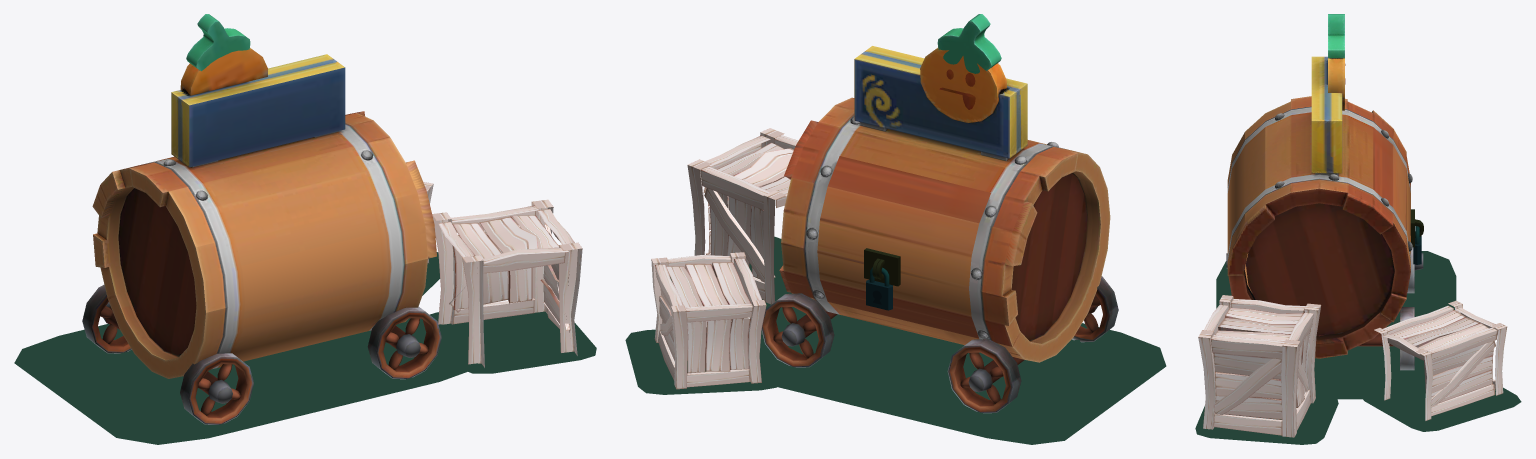
Rendered from TraderBuildingLocked (Baked).fbx.
3 renders of one model, left to right at view 1: azimuth 30°, elevation 25°; view 2: azimuth 150°, elevation 25°; view 3: azimuth 270°, elevation 25°, orthographic. The views are drawn at different scales.
Parts seen in each view (by area): view 1: TraderBuildingBody1, ShadowSquareDark2, ConstructionCrate, TraderBuildingBody2, ShadowSquareDark; view 2: TraderBuildingBody1, TraderBuildingBody2, ShadowSquareDark2, CrateBig1, ConstructionCrate, ShadowSquareDark (×2); view 3: TraderBuildingBody1, ConstructionCrate, CrateBig1, ShadowSquareDark2, ShadowSquareDark (×2), TraderBuildingBody2.
Part boxes in pixels (left/top/right/bottom): TraderBuildingBody1: left=92, top=14, right=436, bottom=378; ShadowSquareDark2: left=14, top=318, right=478, bottom=444; ConstructionCrate: left=432, top=199, right=582, bottom=367; TraderBuildingBody2: left=82, top=285, right=441, bottom=424; ShadowSquareDark: left=430, top=311, right=596, bottom=373; TraderBuildingBody1: left=779, top=14, right=1110, bottom=362; TraderBuildingBody2: left=761, top=156, right=1118, bottom=413; ShadowSquareDark2: left=729, top=292, right=1166, bottom=444; CrateBig1: left=651, top=252, right=766, bottom=389; ConstructionCrate: left=687, top=128, right=798, bottom=304; ShadowSquareDark (×2): left=625, top=236, right=788, bottom=394; TraderBuildingBody1: left=1227, top=14, right=1412, bottom=358; ConstructionCrate: left=1198, top=295, right=1321, bottom=437; CrateBig1: left=1374, top=300, right=1507, bottom=420; ShadowSquareDark2: left=1216, top=251, right=1456, bottom=399; ShadowSquareDark (×2): left=1195, top=387, right=1521, bottom=444; TraderBuildingBody2: left=1226, top=127, right=1423, bottom=370.
Bounding box in the file's own units: 4.45 × 3.19 × 3.17.
